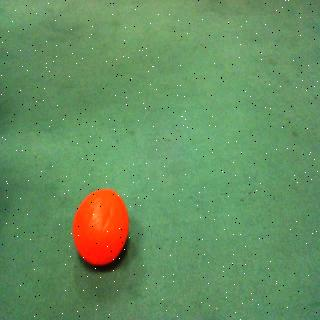orange: (73, 183, 133, 270)
